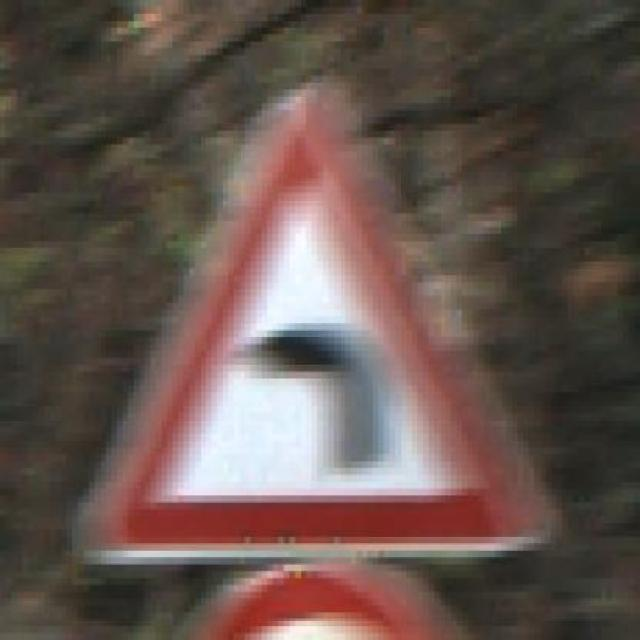Dangerous Left Curve Ahead: (56, 69, 573, 565)
